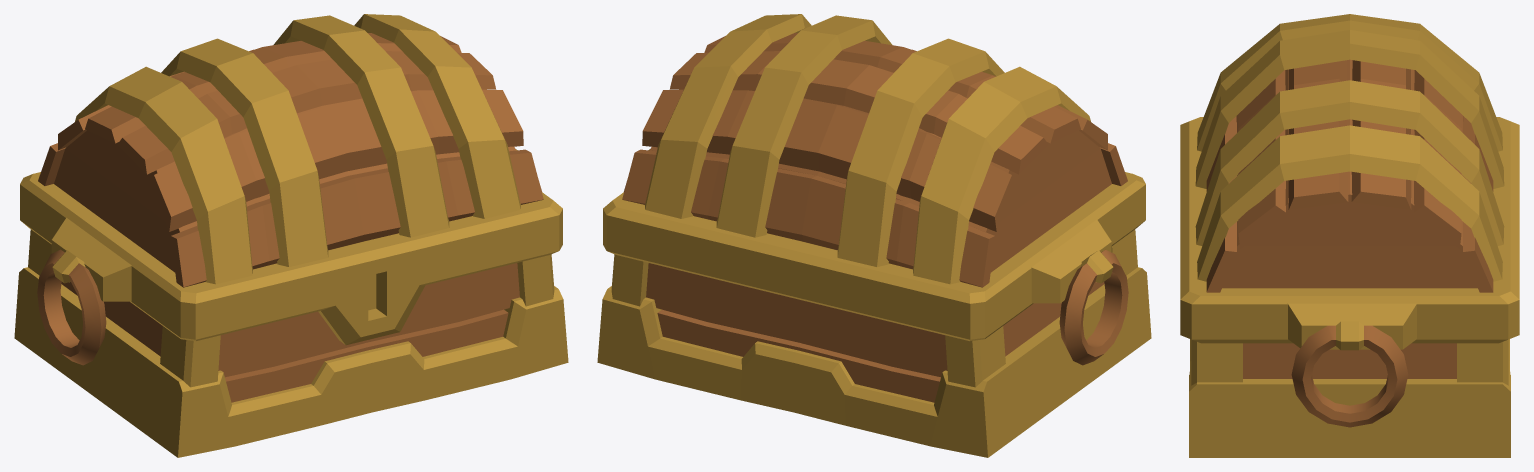
Rendered from Prop_Chest_Closed.glb.
3 views of the same model, side by side, from view 1: azimuth 30°, elevation 25°; view 2: azimuth 150°, elevation 25°; view 3: azimuth 270°, elevation 25° (orthographic).
Parts seen in each view (by area): view 1: Prop_Chest_Closed; view 2: Prop_Chest_Closed; view 3: Prop_Chest_Closed.
Boxes of the visible parts, x1,y1,x2,y2 form: Prop_Chest_Closed: [14, 14, 568, 457]; Prop_Chest_Closed: [597, 14, 1151, 457]; Prop_Chest_Closed: [1180, 14, 1519, 457].
Bounding box in the file's own units: 1.39 × 0.8813 × 0.8874.
